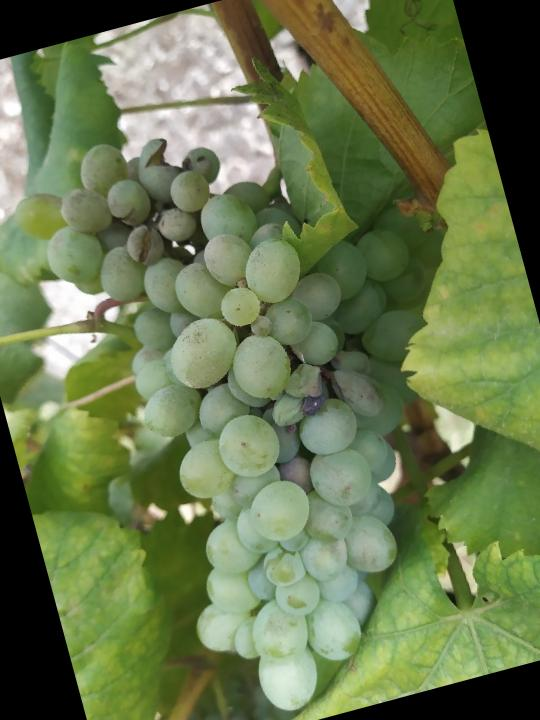grape: (20, 71, 521, 720)
